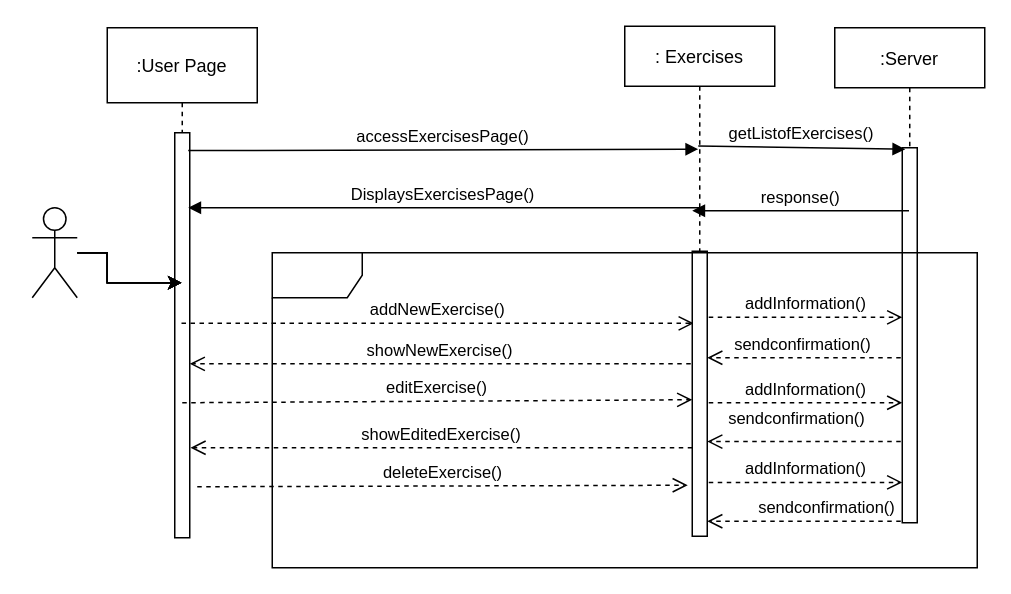
Image size: 1011x594. Some labels were removed from this diagram. Here are the shapes that lost their labels. From the top down, the centre of each, then its label:
At point 54,252: "Trainer".
At point 624,409: "alt".
